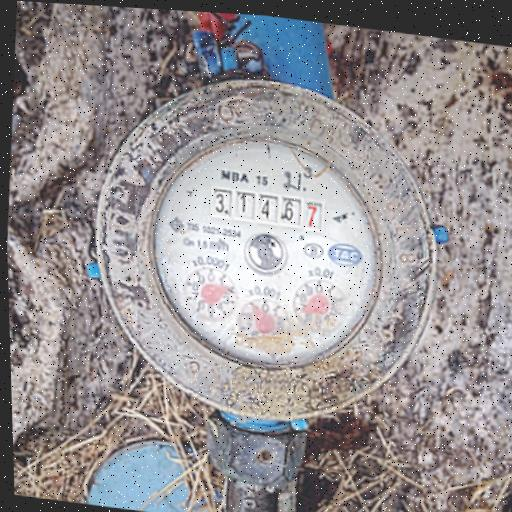1: (236, 193, 257, 219)
3: (212, 190, 233, 216)
4: (258, 193, 276, 220)
6: (282, 199, 303, 225)
7: (305, 202, 323, 228)
border_water_meter_number: (204, 183, 330, 234)
